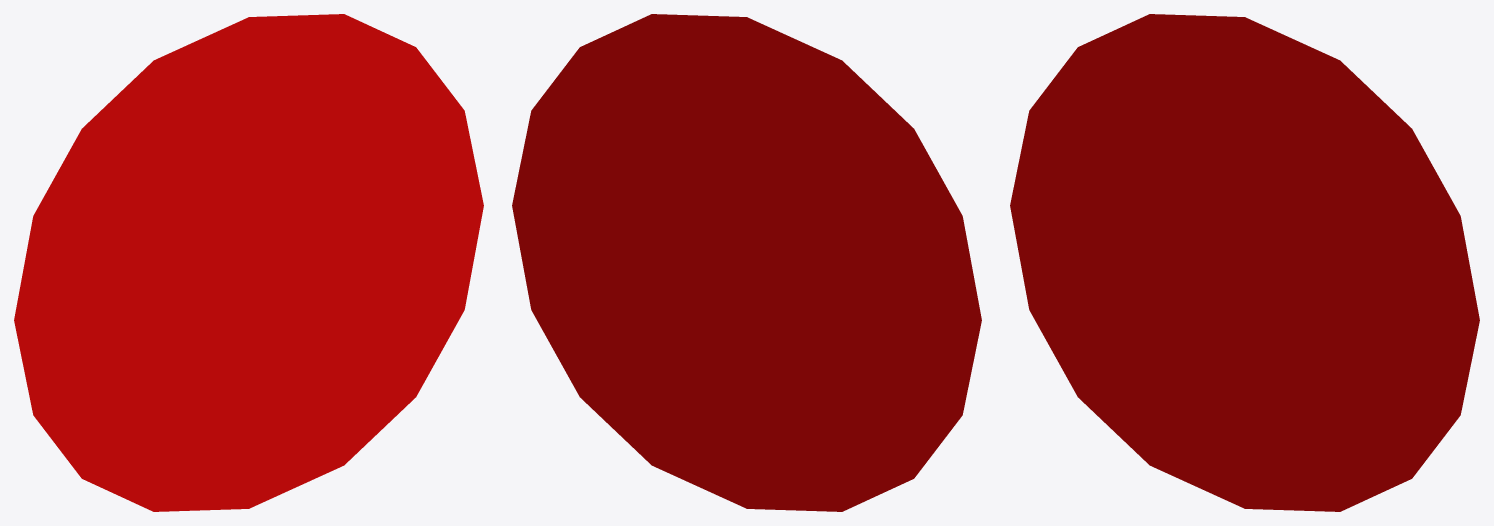
Rendered from ContourRouge.fbx.
3 views of the same model, side by side, from view 1: azimuth 30°, elevation 25°; view 2: azimuth 150°, elevation 25°; view 3: azimuth 330°, elevation 25° (orthographic).
Parts seen in each view (by area): view 1: Circle001; view 2: Circle001; view 3: Circle001.
Part boxes in pixels (left/top/right/bottom): Circle001: left=14, top=14, right=483, bottom=511; Circle001: left=512, top=14, right=981, bottom=511; Circle001: left=1010, top=14, right=1479, bottom=511.
Bounding box in the file's own units: 29.94 × 29.94 × 4.88e-06.
